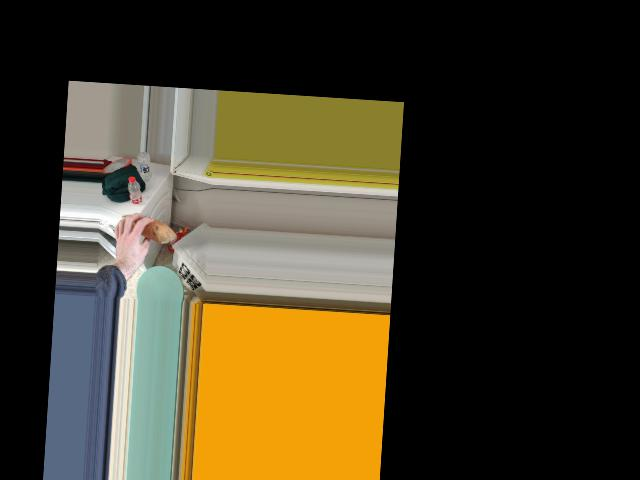sweet_potato: (117, 213, 176, 242)
